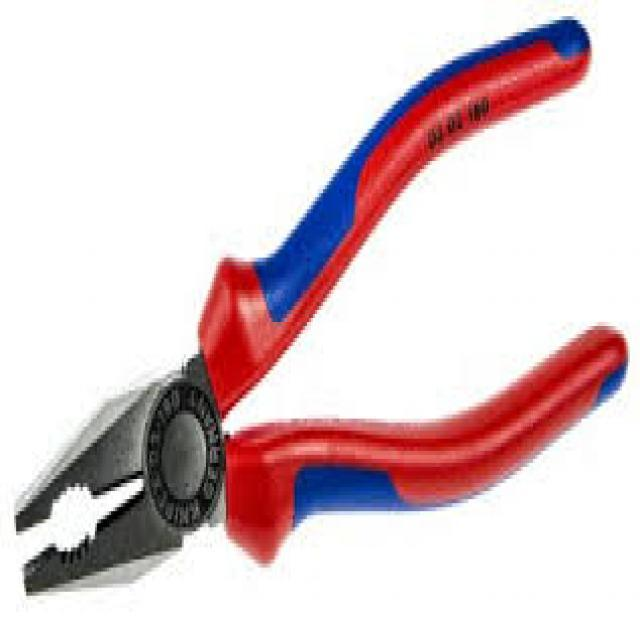pliers: (11, 11, 633, 627)
